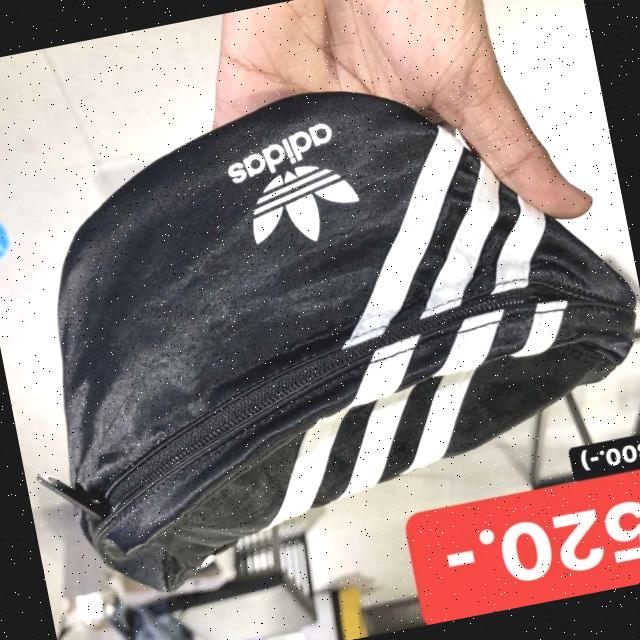Handbag: (3, 38, 640, 604)
